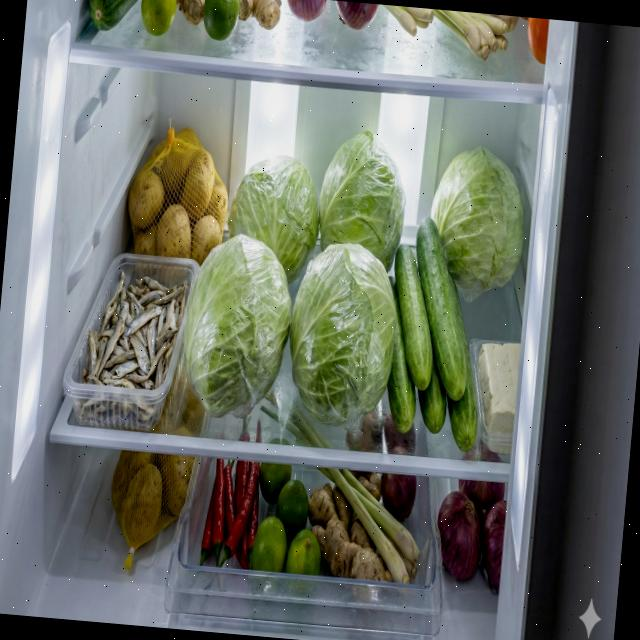anchovies: (76, 266, 188, 430)
cabbage: (176, 230, 297, 423), (282, 238, 402, 430), (424, 141, 532, 295), (313, 125, 412, 275), (222, 148, 325, 286)
chili: (199, 458, 263, 570)
cucumber: (373, 213, 496, 452), (85, 0, 145, 34)
ginger: (302, 466, 402, 583), (234, 0, 282, 30), (171, 0, 209, 27)
lemongrass: (304, 466, 426, 586)
lime: (250, 461, 328, 576), (199, 0, 240, 42), (138, 0, 177, 37)
onion: (432, 478, 508, 590), (377, 472, 418, 522)
potato: (123, 122, 235, 268), (106, 448, 196, 552)
tofu: (470, 340, 520, 456)
